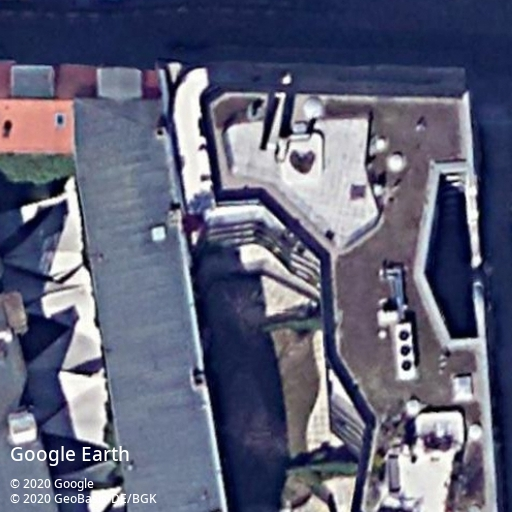Chiller: (394, 322, 416, 380)
